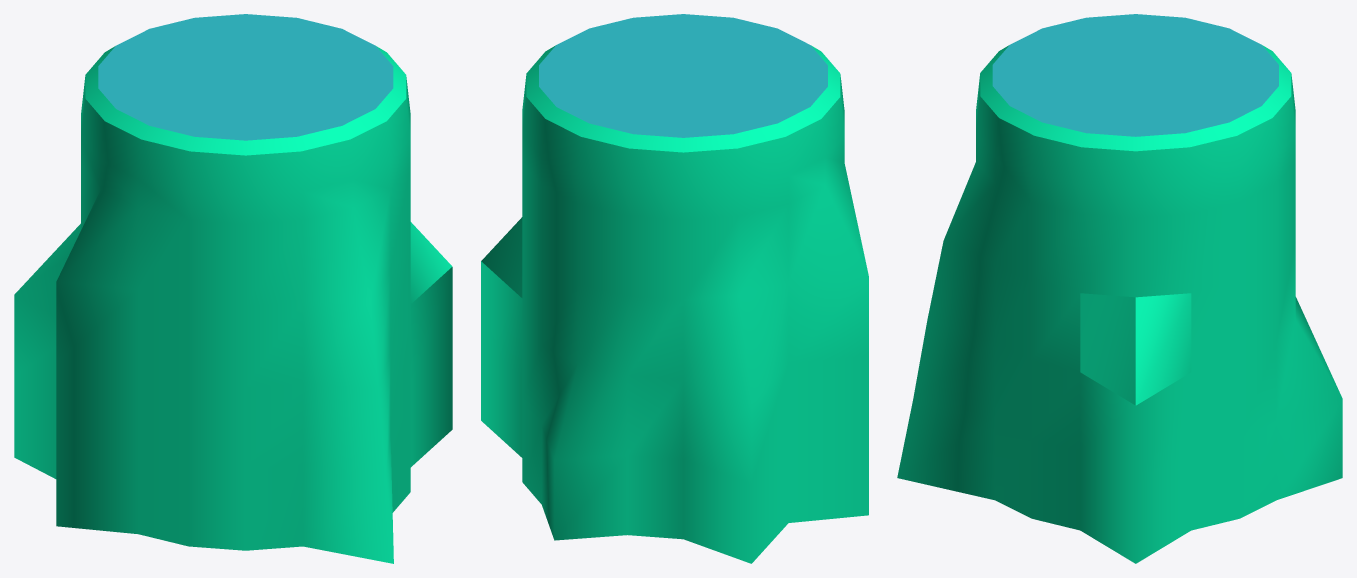
Rendered from Tree Stump 3.fbx.
The picture shows the model from 3 angles, left to right: view 1: azimuth 30°, elevation 25°; view 2: azimuth 150°, elevation 25°; view 3: azimuth 270°, elevation 25°; orthographic projection. The views are drawn at different scales.
Parts seen in each view (by area): view 1: Tree Stump 3; view 2: Tree Stump 3; view 3: Tree Stump 3.
Boxes of the visible parts, left/top/right/bottom form: Tree Stump 3: left=14, top=14, right=452, bottom=563; Tree Stump 3: left=481, top=14, right=868, bottom=563; Tree Stump 3: left=897, top=14, right=1342, bottom=563.
Size of the model in its own units: 26.64 by 25.88 by 26.75.
2 materials, 2 textured.
